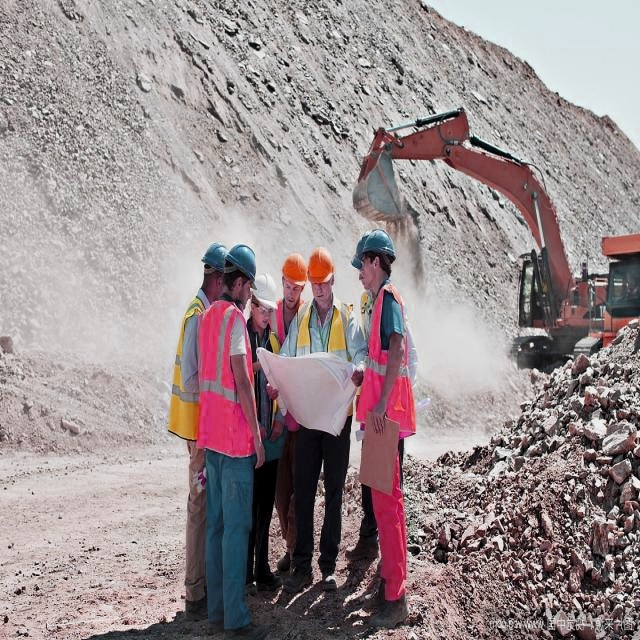Con_Casco: (362, 230, 394, 283), (309, 246, 336, 300), (283, 252, 306, 304)
Con_Chaleco: (196, 306, 252, 450), (360, 286, 415, 432), (170, 298, 210, 442)
